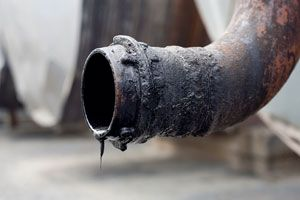rust: (269, 3, 298, 65)
